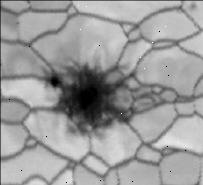good_void: (43, 56, 136, 138)
